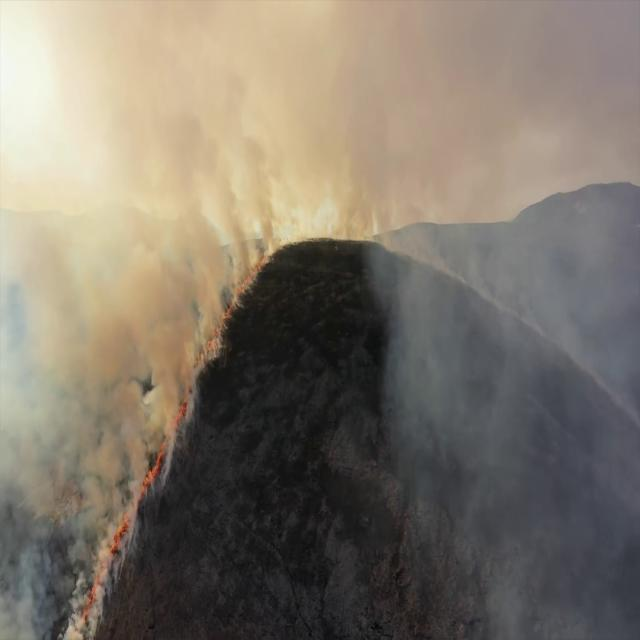Smoke: (382, 228, 640, 640), (63, 220, 236, 446), (240, 207, 270, 283), (329, 191, 372, 242)
